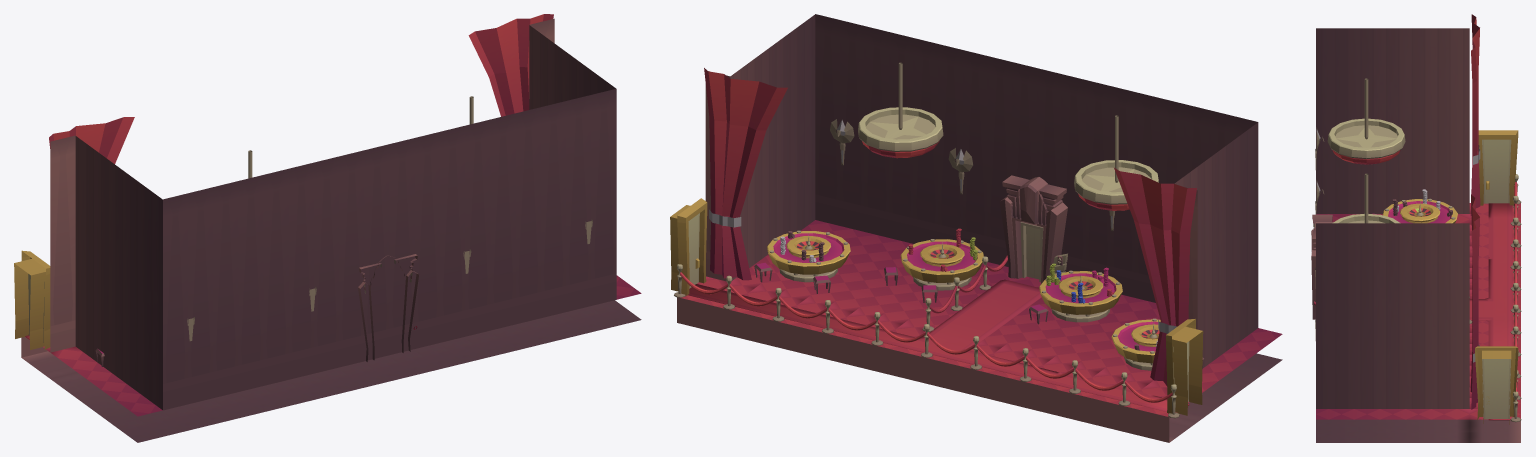
Rendered from SM_CasinoRoom-D.fbx.
The picture shows the model from 3 angles, left to right: view 1: azimuth 30°, elevation 25°; view 2: azimuth 150°, elevation 25°; view 3: azimuth 270°, elevation 25°; orthographic projection. The views are drawn at different scales.
Parts seen in each view (by area): view 1: CasinoRoom_D; view 2: CasinoRoom_D; view 3: CasinoRoom_D.
Boxes of the visible parts, x1,y1,x2,y2 form: CasinoRoom_D: (14,14,641,442); CasinoRoom_D: (670,14,1282,442); CasinoRoom_D: (1311,14,1521,442).
Bounding box in the file's own units: 820 × 2100 × 913.
